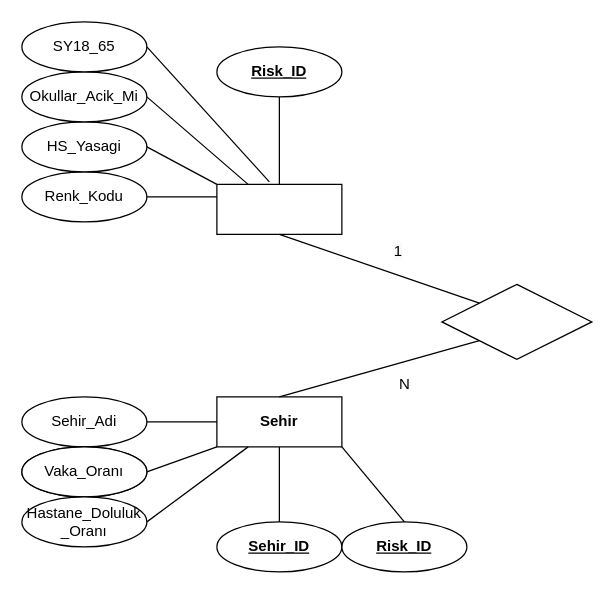
Image size: 614x594. Some labels were removed from this diagram. Here are the shapes that lost their labels. From the top down, the centre of each, then its label:
pixel 279 208: Risk
pixel 516 321: Sahip Olur
